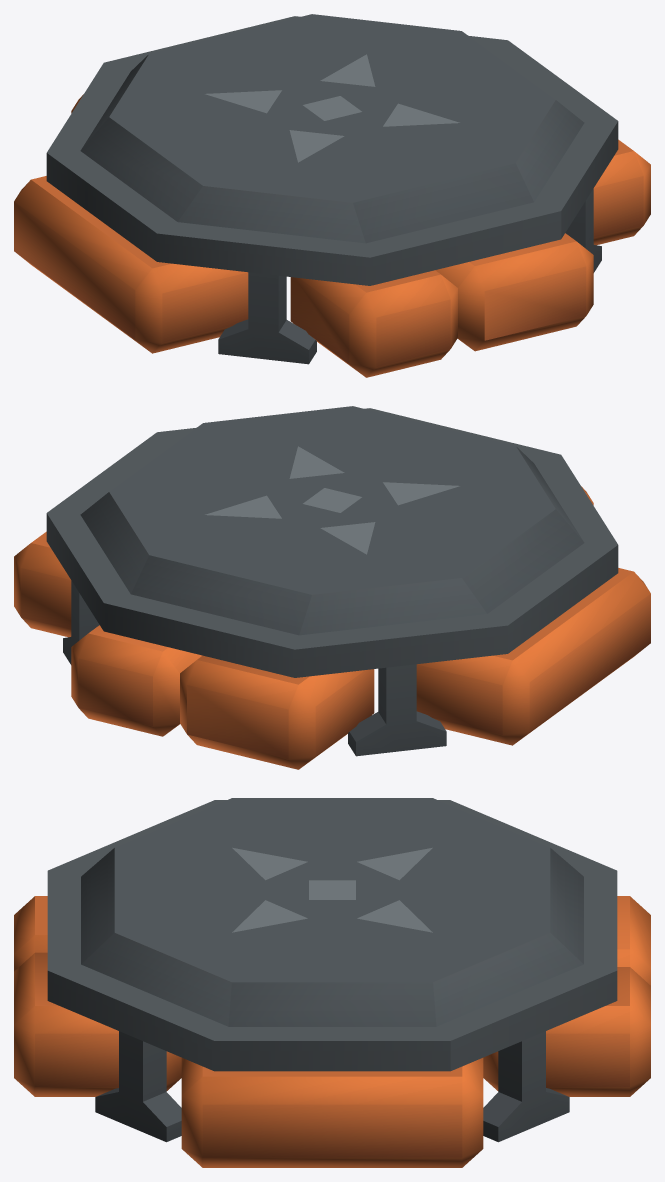
Rendered from kk_landingpad.glb.
The picture shows the model from 3 angles, top to bottom: view 1: azimuth 30°, elevation 25°; view 2: azimuth 150°, elevation 25°; view 3: azimuth 270°, elevation 25°; orthographic projection. The views are drawn at different scales.
Visible parts, largest first — view 1: landingpad_small; view 2: landingpad_small; view 3: landingpad_small.
Part boxes in pixels (x1,y1,x2,y2): landingpad_small: (14,14,650,377); landingpad_small: (14,406,650,769); landingpad_small: (14,798,650,1167).
Bounding box in the file's own units: 12 × 3.16 × 12.
Materials: 1 (1 with a texture image).
